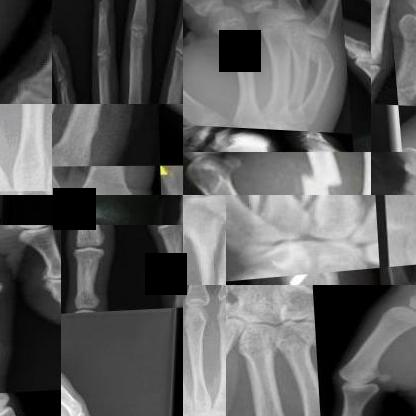fracture: (290, 152, 352, 194), (188, 216, 225, 284), (226, 195, 291, 228), (283, 195, 361, 222), (212, 124, 274, 151), (303, 40, 339, 75), (257, 273, 348, 284)
